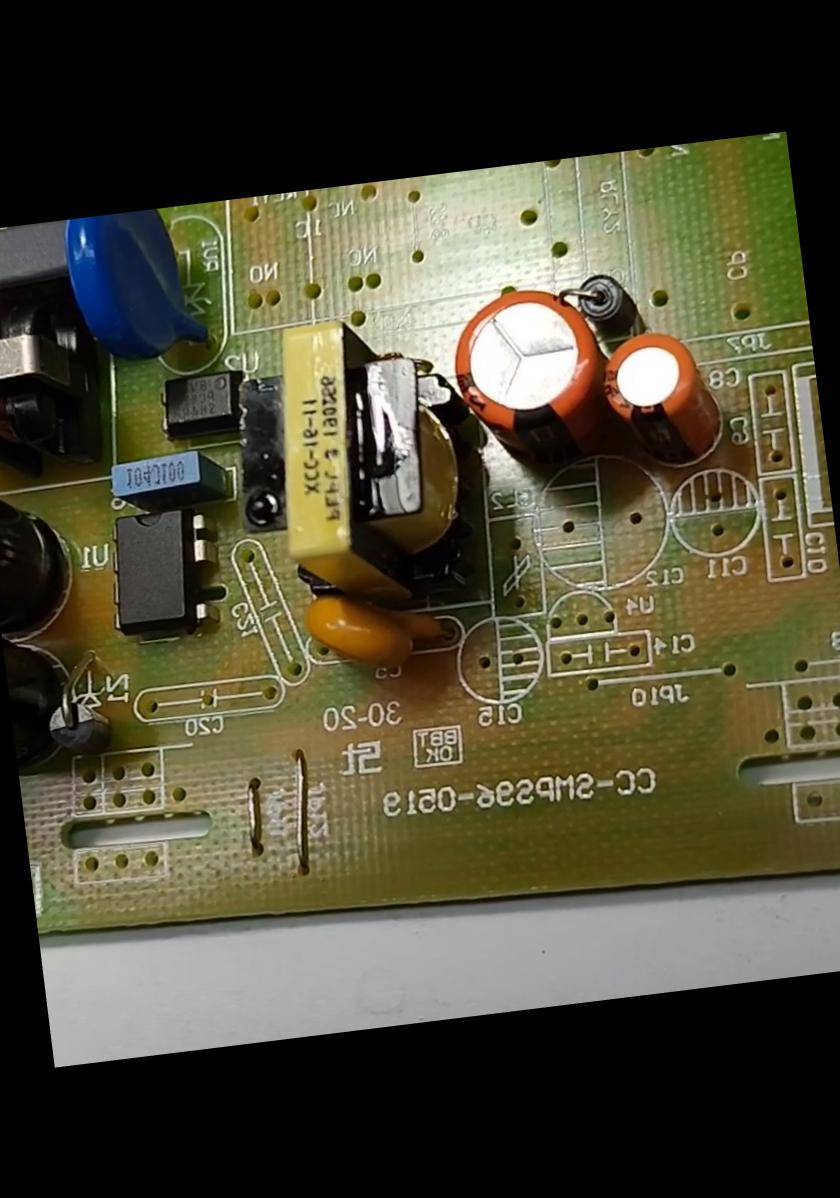Cap1: (439, 277, 615, 514)
Cap2: (595, 322, 724, 472)
Cap3: (0, 440, 73, 605)
Cap4: (0, 586, 79, 778)
MOSFET: (95, 498, 221, 644)
Mov: (56, 206, 202, 370)
Transformer: (232, 298, 484, 615), (0, 305, 70, 449)
